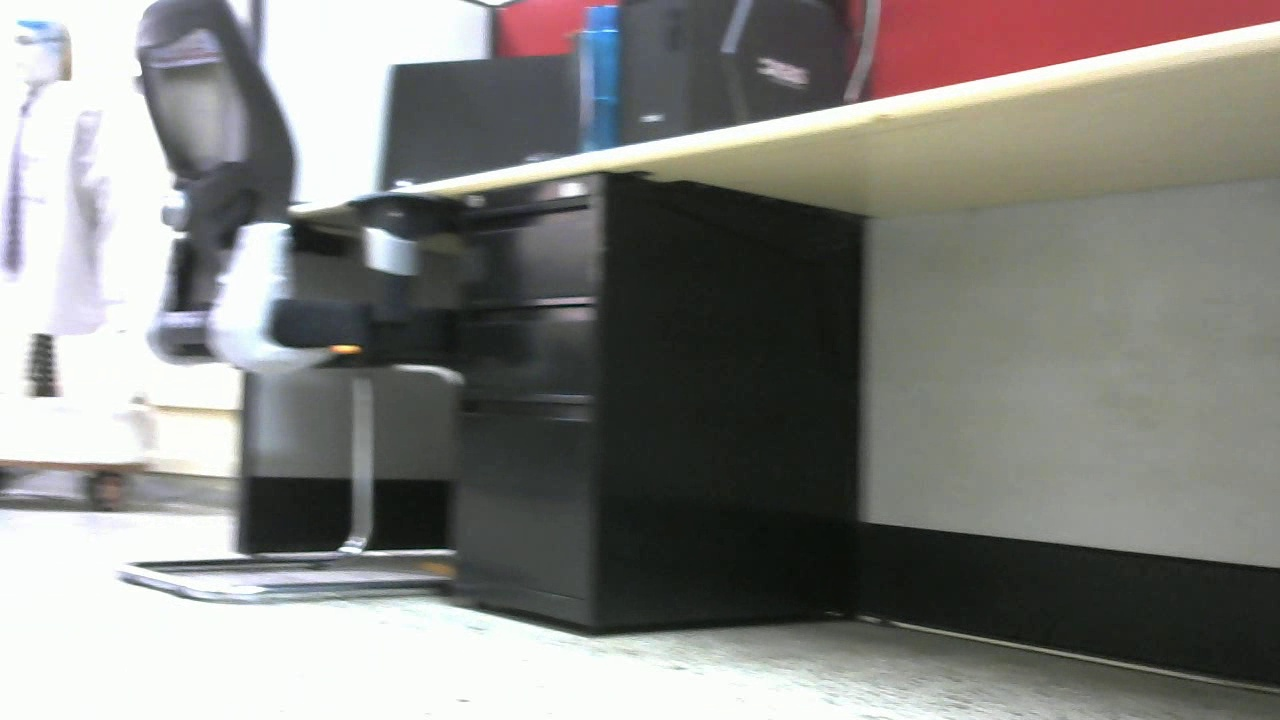chair: (117, 1, 464, 609)
